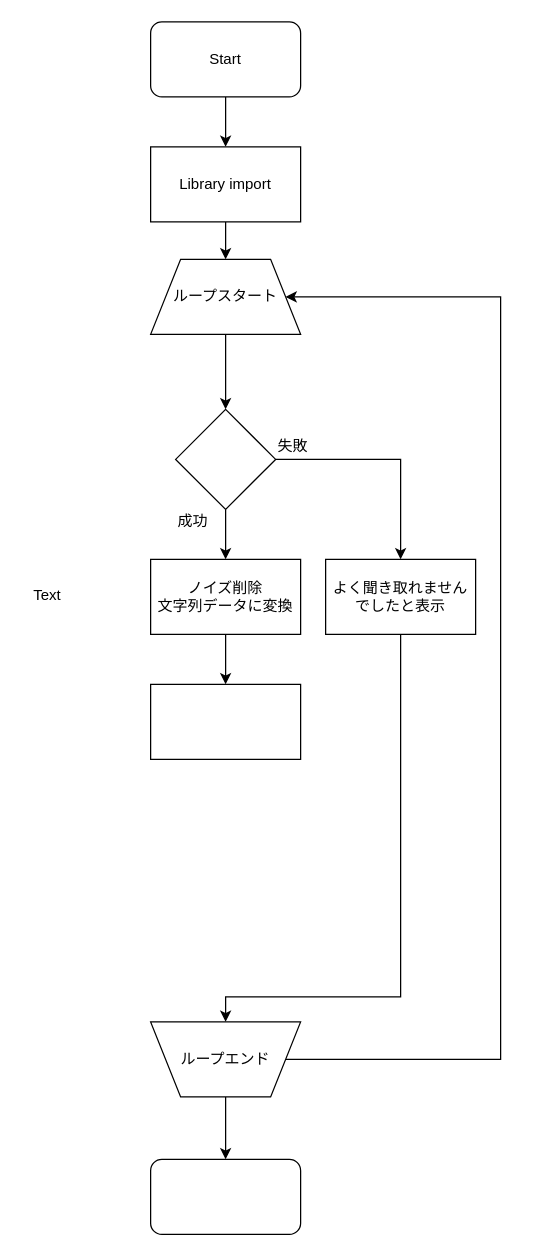
Image size: 533x1256. Some labels were removed from this diagram. Here are the shapes that lost their labels. From the top down, the centre of each, then its label:
(225,458): 音声認識
(225,721): 文字列の形態素分析
(225,1196): End
